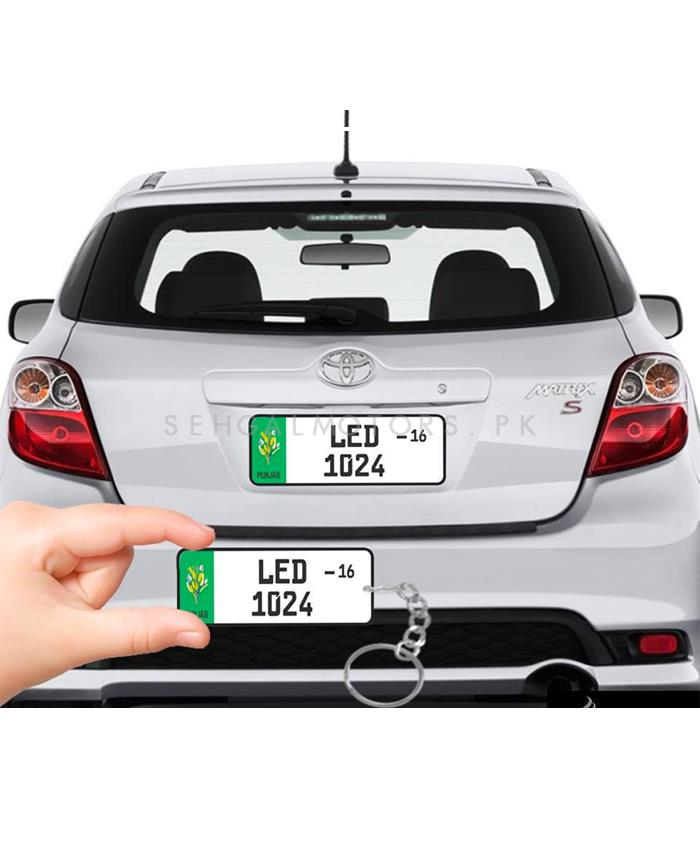Number Plate (Car): (176, 548, 370, 621), (245, 414, 444, 483)
